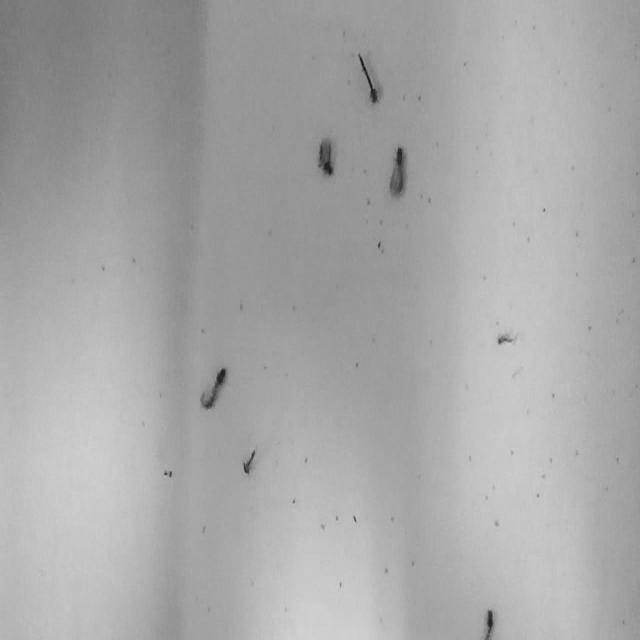larvas: (199, 364, 227, 410), (357, 50, 380, 104), (387, 144, 404, 196), (316, 137, 333, 175), (242, 443, 257, 478), (482, 608, 493, 639), (498, 332, 518, 344)
